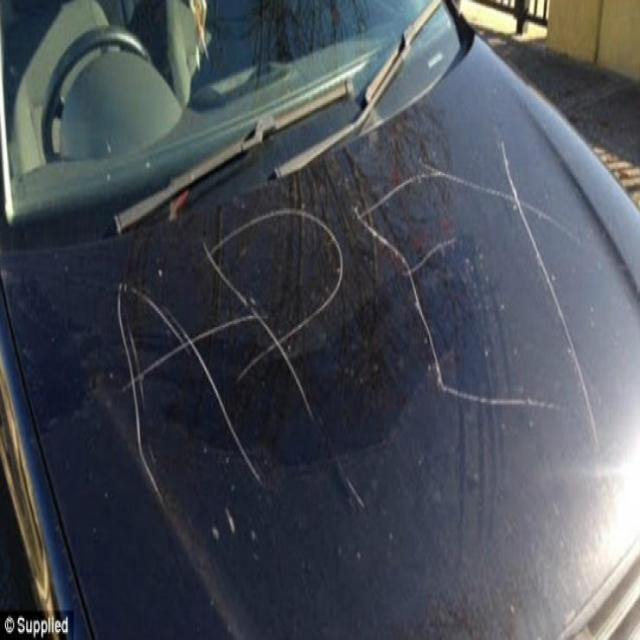paint-trace: (350, 124, 603, 485), (196, 197, 355, 456), (104, 273, 264, 509)
